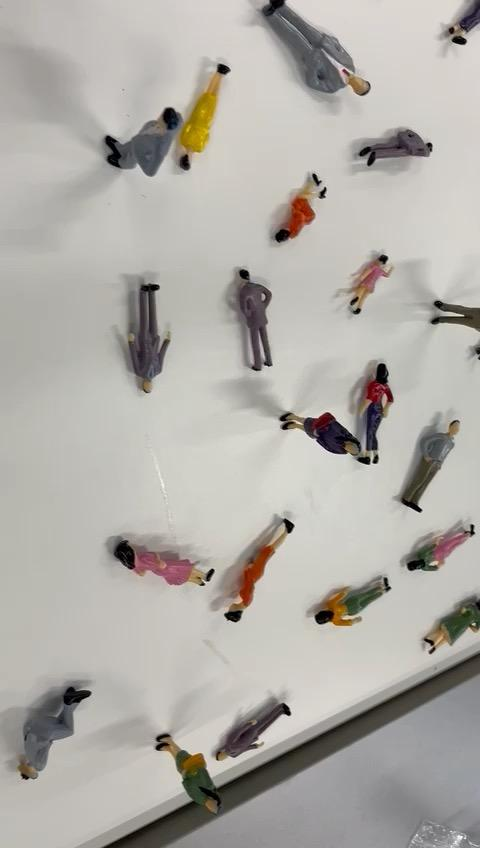human: (261, 0, 380, 103), (12, 680, 96, 784), (223, 514, 301, 624), (148, 724, 223, 821), (400, 414, 466, 513), (179, 56, 235, 171), (99, 103, 180, 181), (123, 277, 170, 399), (215, 694, 296, 764), (110, 536, 216, 587), (231, 263, 276, 379), (312, 571, 394, 631), (278, 409, 362, 461), (419, 586, 480, 657), (273, 170, 327, 246), (399, 526, 480, 574), (361, 354, 396, 464), (342, 253, 397, 321), (353, 126, 437, 169)
